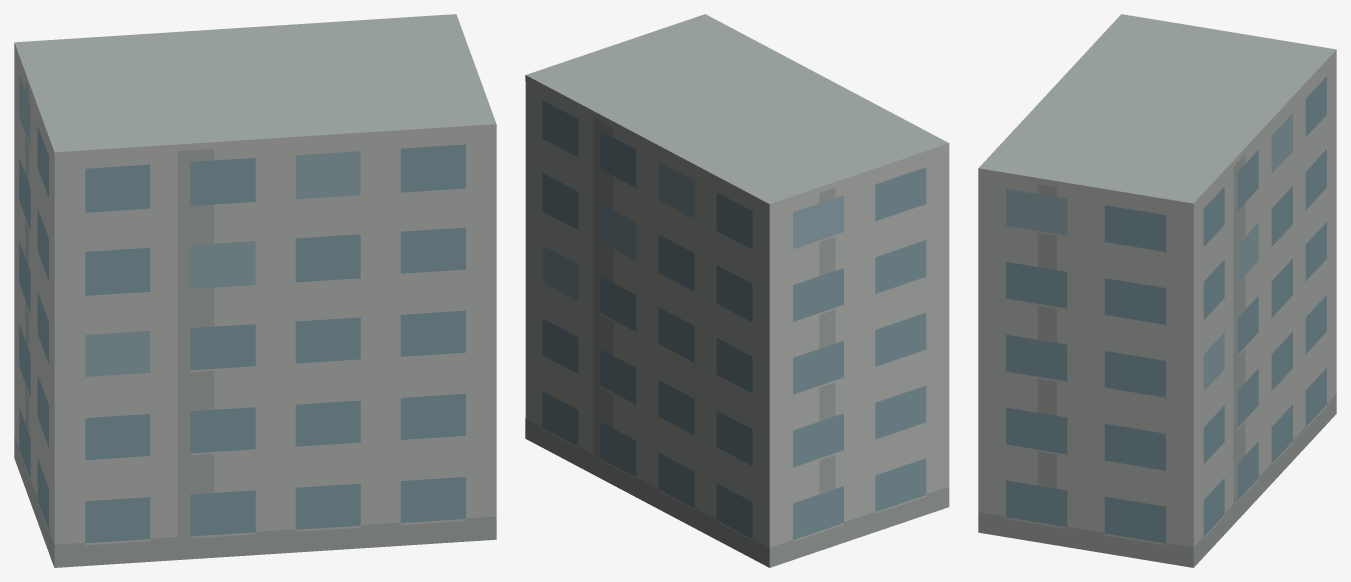
The model's file is survey-upis-32869772.glb.
3 views of the same model, side by side, from view 1: azimuth 30°, elevation 25°; view 2: azimuth 150°, elevation 25°; view 3: azimuth 270°, elevation 25° (orthographic). The views are drawn at different scales.
Visible parts, largest first — view 1: survey-upis-32869772.tmp; view 2: survey-upis-32869772.tmp; view 3: survey-upis-32869772.tmp.
Part boxes in pixels (bbox=[...]): survey-upis-32869772.tmp: bbox=[14, 14, 496, 567]; survey-upis-32869772.tmp: bbox=[525, 14, 949, 567]; survey-upis-32869772.tmp: bbox=[978, 14, 1336, 567].
Size of the model in its own units: 16.47 by 14.75 by 13.15.
